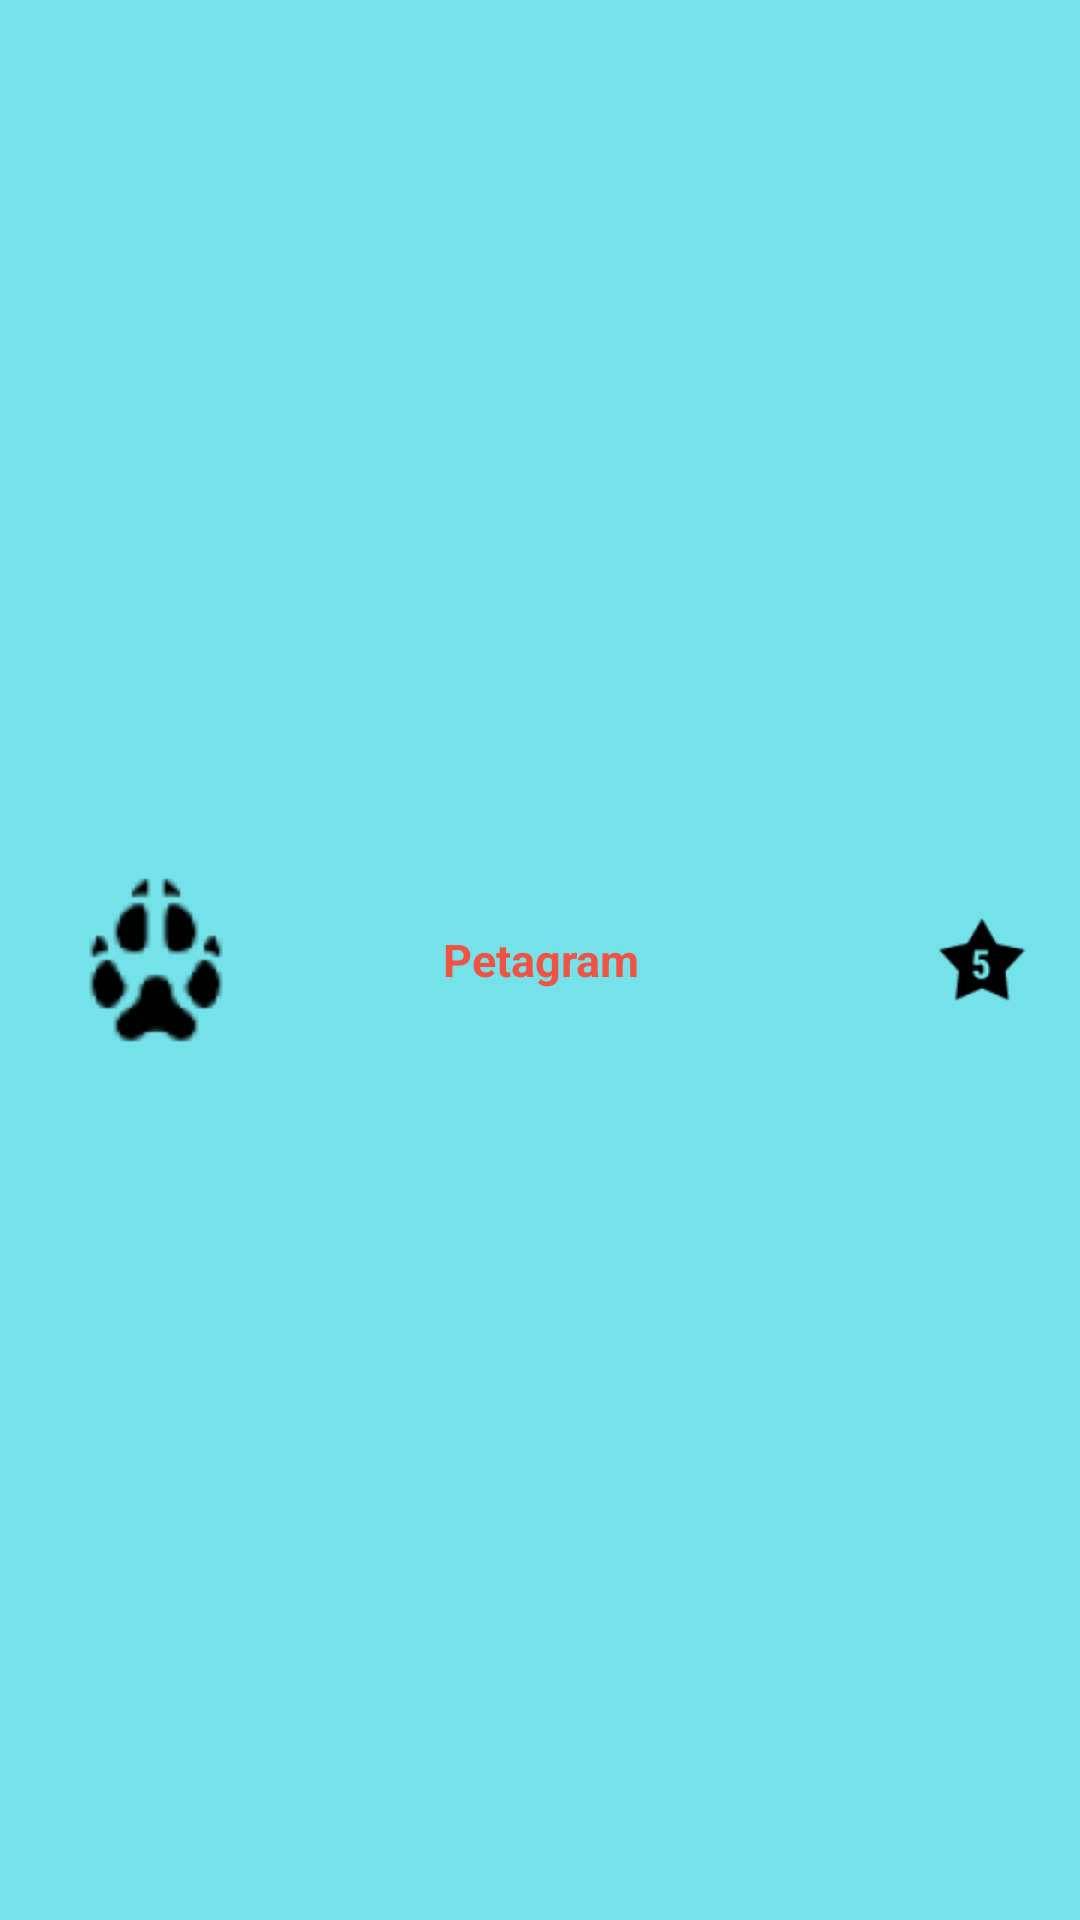

Where to tap for icons on this 1080 x 1920 app screen, as [x,y]:
dog: [156,960]
estrella: [982,959]
